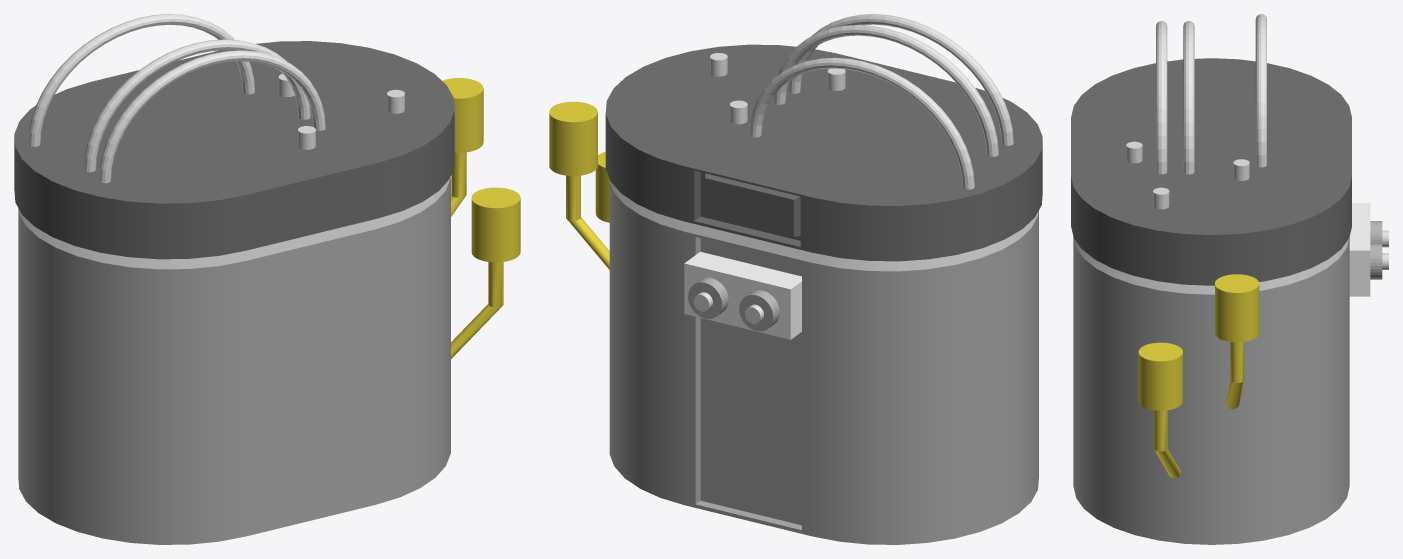
File: coolnew.fbx
3 views of the same model, side by side, from view 1: azimuth 30°, elevation 25°; view 2: azimuth 150°, elevation 25°; view 3: azimuth 270°, elevation 25° (orthographic). The views are drawn at different scales.
Visible parts, largest first — view 1: Cylinder.038; view 2: Cylinder.038; view 3: Cylinder.038.
Part boxes in pixels (<box>): Cylinder.038: <box>14,14,520,544</box>; Cylinder.038: <box>549,14,1042,544</box>; Cylinder.038: <box>1071,14,1388,544</box>.
Size of the model in its own units: 60.47 by 55.69 by 39.9.
